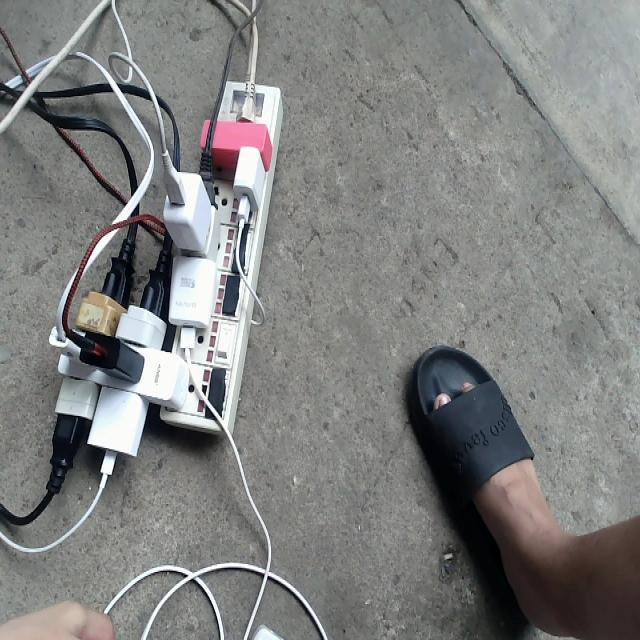-: (45, 77, 284, 483)
